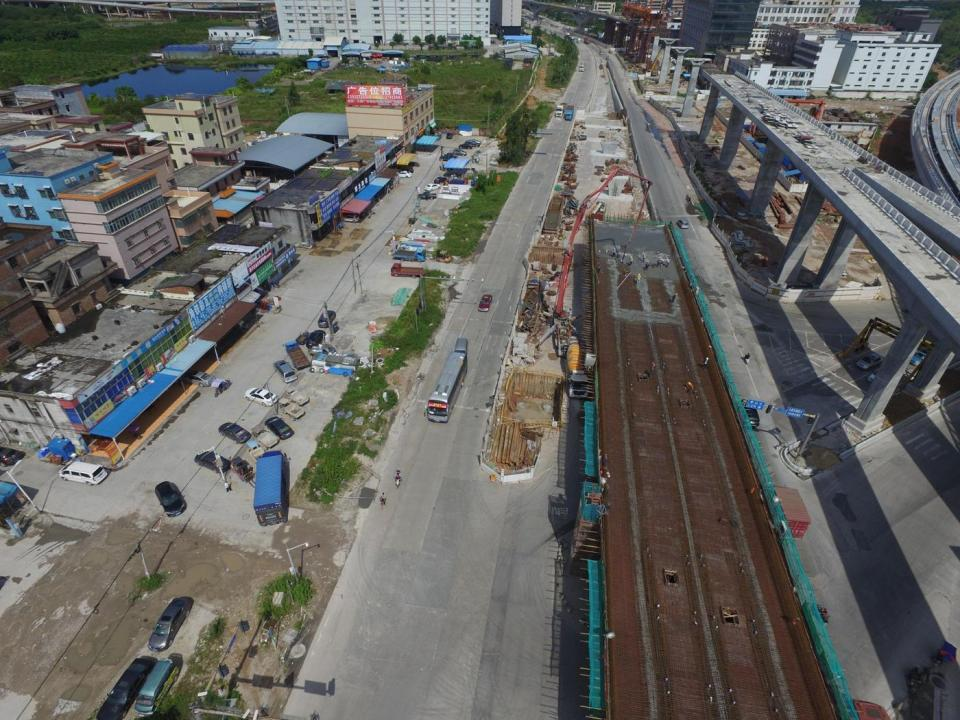bus: (425, 353, 468, 422)
car: (93, 658, 154, 720), (149, 598, 191, 651), (154, 480, 186, 517), (194, 450, 231, 472), (265, 415, 294, 440), (245, 388, 280, 408), (218, 422, 250, 443), (908, 345, 940, 366), (734, 402, 759, 428), (180, 369, 214, 387), (274, 360, 296, 383), (868, 367, 895, 385), (0, 444, 22, 465), (856, 353, 881, 370), (308, 329, 326, 348), (318, 310, 334, 328), (478, 294, 492, 312), (342, 212, 358, 223), (417, 191, 437, 199), (396, 170, 412, 178), (458, 142, 473, 150), (439, 152, 456, 159), (453, 148, 467, 156), (465, 140, 480, 147), (469, 138, 481, 146), (434, 177, 447, 184), (425, 184, 440, 190), (677, 220, 688, 228), (439, 156, 452, 162), (436, 134, 442, 140), (446, 133, 452, 139)
truck: (254, 449, 290, 526), (771, 482, 809, 539), (285, 341, 310, 370), (278, 397, 303, 422), (252, 427, 278, 449), (391, 262, 426, 278), (393, 248, 426, 262), (286, 387, 309, 406), (556, 103, 566, 116), (566, 105, 574, 121), (580, 62, 586, 72)
van: (135, 660, 178, 716), (59, 461, 107, 486), (454, 338, 468, 356)
